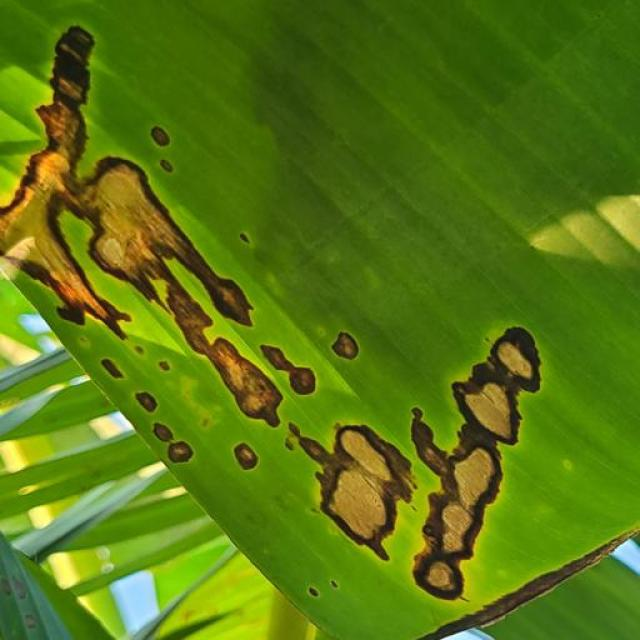Early_rust: (0, 0, 545, 617)
